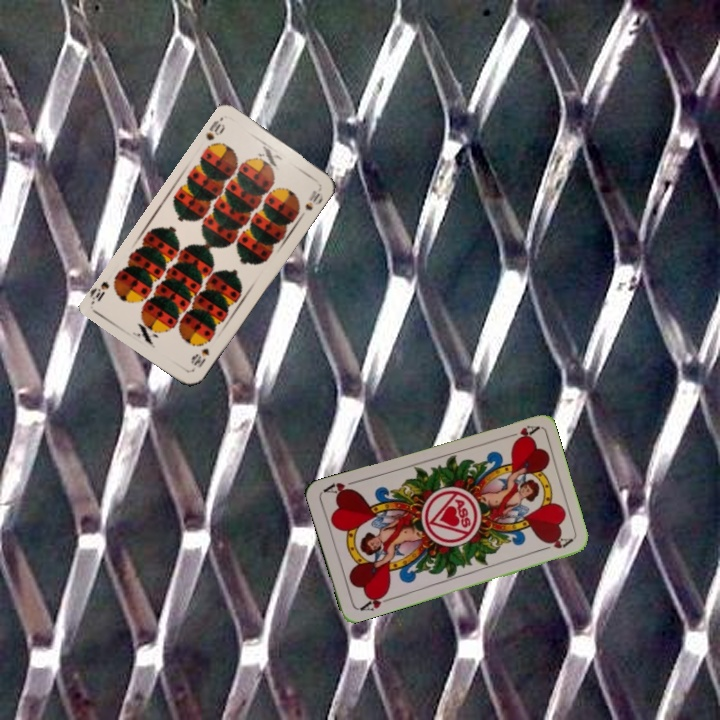HA: (355, 588, 394, 614), (500, 421, 540, 444)
S10: (201, 114, 228, 143), (188, 344, 212, 373)
